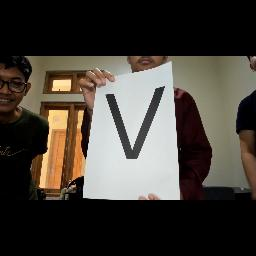v: (101, 82, 187, 178)
